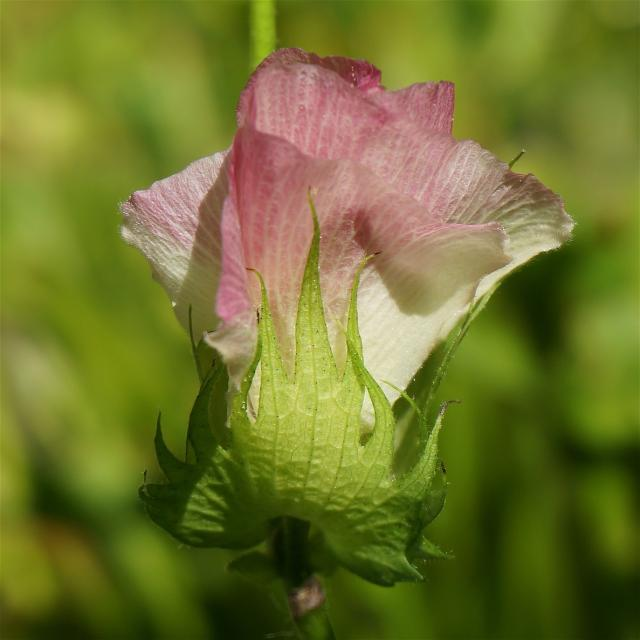Cotton Blossom: (134, 49, 530, 587)
